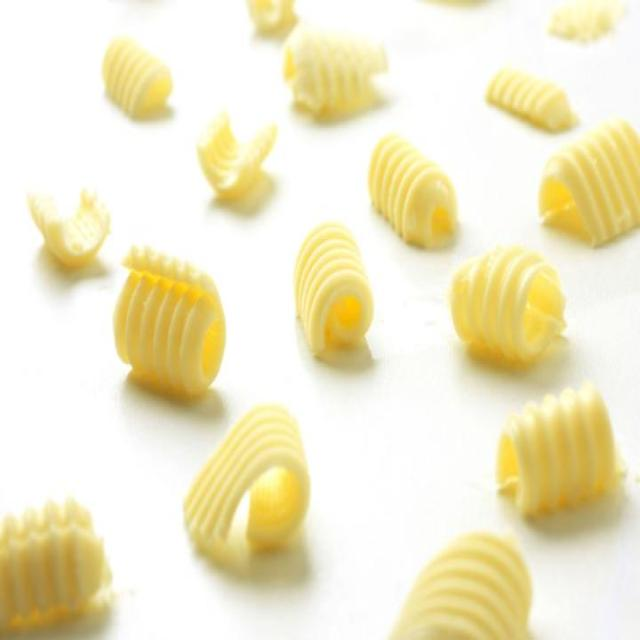Butter: (184, 401, 308, 562), (502, 380, 622, 522), (113, 252, 224, 394), (451, 242, 564, 364), (296, 222, 377, 363), (373, 134, 459, 252)
